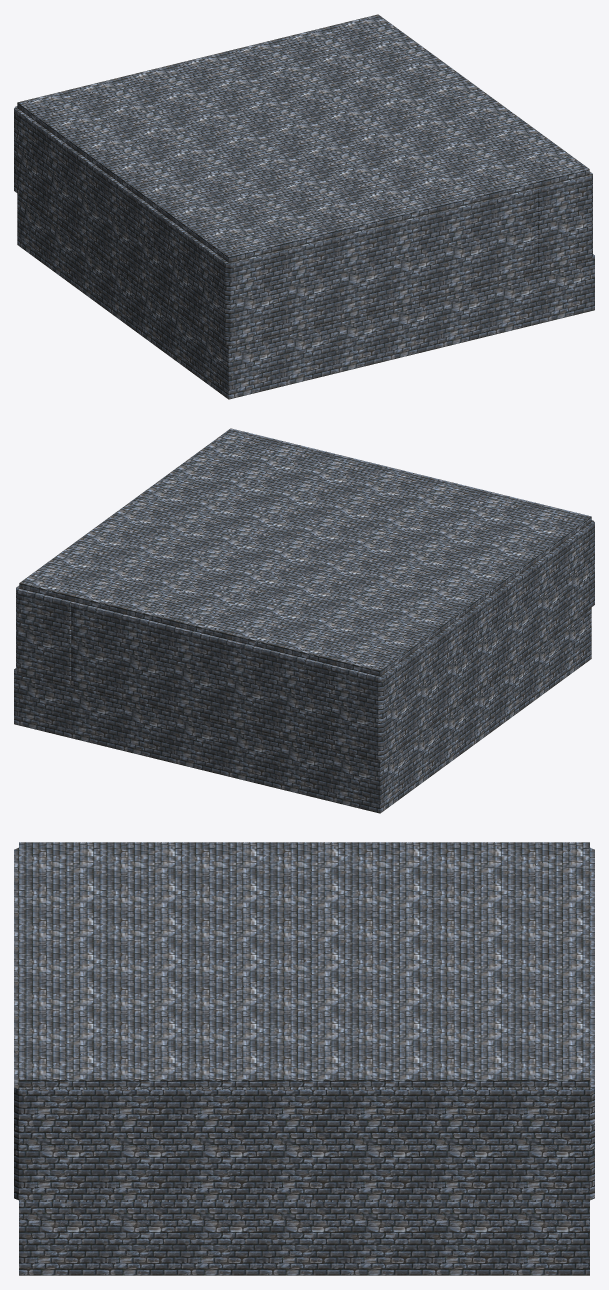
File: dungeon.model.fbx
3 views of the same model, one above another, from view 1: azimuth 30°, elevation 25°; view 2: azimuth 150°, elevation 25°; view 3: azimuth 270°, elevation 25° (orthographic). The views are drawn at different scales.
Parts seen in each view (by area): view 1: block_default_26, wall_straight_24, block_default_13, wall_straight_8, block_default_14, wall_corner_7, block_default_6, wall_corner_10, wall_corner_9; view 2: block_default_26, wall_straight_25, block_default_13, wall_straight_8, block_default_15, wall_corner_9, block_default_6, wall_corner_12, wall_corner_7; view 3: block_default_26, wall_straight_11, block_default_6, wall_corner_10, wall_corner_12, wall_straight_24, wall_straight_25.
Part boxes in pixels (x1,y1,x2,y2): block_default_26: [17, 14, 589, 262]; wall_straight_24: [268, 185, 545, 335]; block_default_13: [17, 193, 333, 399]; wall_straight_8: [42, 128, 200, 322]; block_default_14: [333, 283, 490, 373]; wall_corner_7: [195, 239, 283, 346]; block_default_6: [490, 254, 594, 335]; wall_corner_10: [537, 171, 592, 270]; wall_corner_9: [14, 106, 48, 212]; block_default_26: [19, 428, 591, 676]; wall_straight_25: [62, 599, 348, 749]; block_default_13: [275, 607, 591, 813]; wall_straight_8: [403, 537, 570, 736]; block_default_15: [118, 697, 275, 787]; wall_corner_9: [325, 654, 413, 760]; block_default_6: [14, 668, 118, 749]; wall_corner_12: [16, 585, 71, 684]; wall_corner_7: [560, 520, 594, 626]; block_default_26: [19, 842, 589, 1087]; wall_straight_11: [80, 1087, 533, 1200]; block_default_6: [19, 1200, 589, 1275]; wall_corner_10: [14, 1052, 104, 1200]; wall_corner_12: [504, 1052, 594, 1200]; wall_straight_24: [14, 870, 18, 1059]; wall_straight_25: [590, 868, 594, 1059].
Bounding box in the file's own units: 70.62 × 26 × 71.25.
3 materials, 3 textured.
